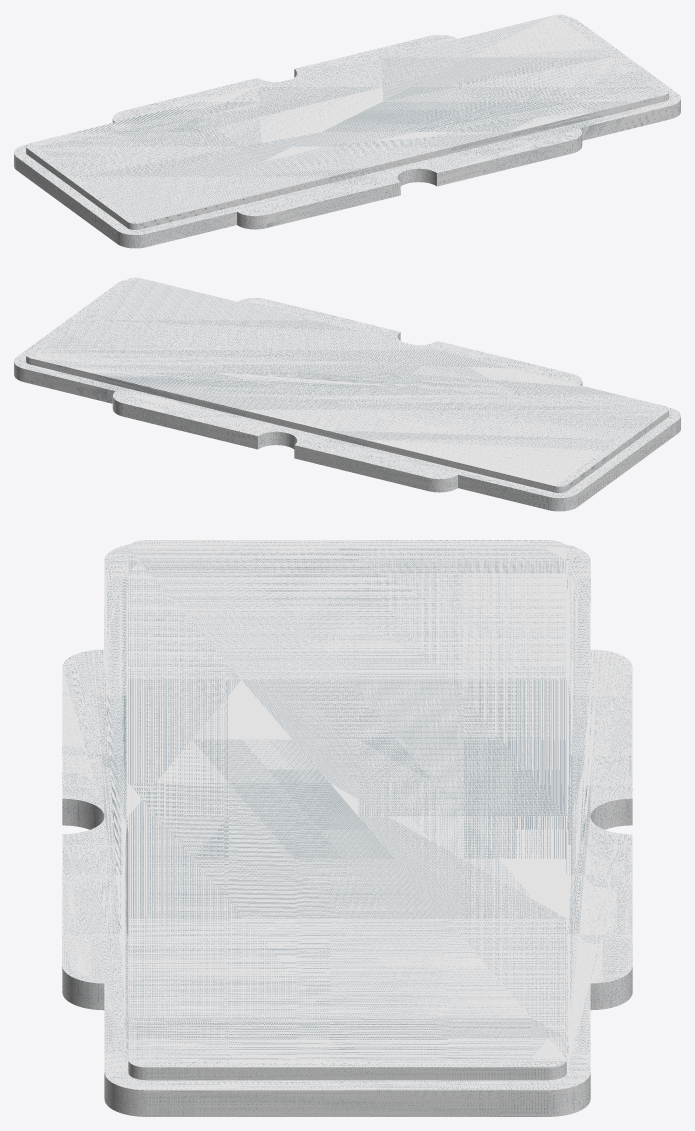
File: Sign.fbx
3 renders of one model, top to bottom at view 1: azimuth 30°, elevation 25°; view 2: azimuth 150°, elevation 25°; view 3: azimuth 270°, elevation 25°, orthographic. The views are drawn at different scales.
Visible parts, largest first — view 1: Model; view 2: Model; view 3: Model.
Part boxes in pixels (x1=…): Model: x1=14, y1=14, x2=680, y2=248; Model: x1=14, y1=277, x2=680, y2=511; Model: x1=62, y1=540, x2=632, y2=1116.
Size of the model in its own units: 6156 by 207 by 2710.
